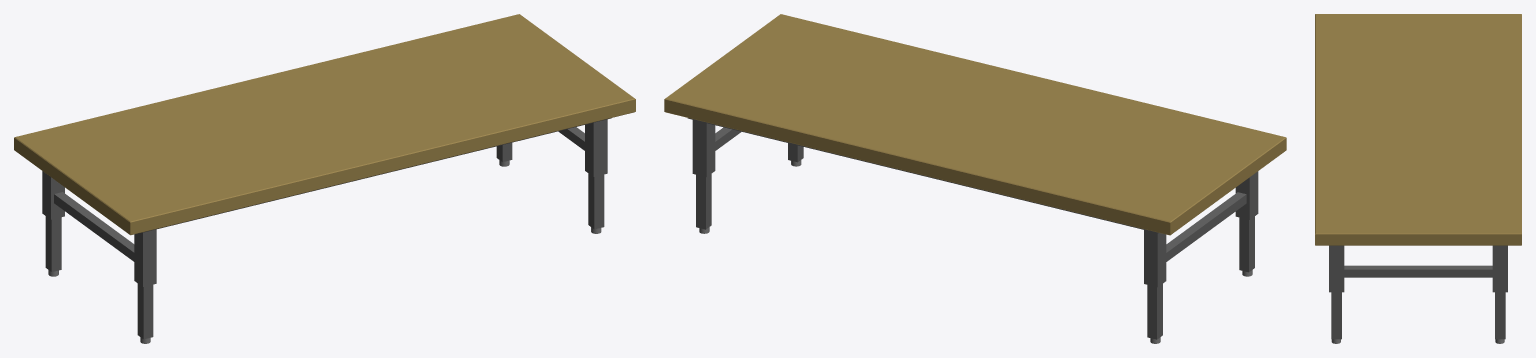
The model's file is WorkTableGeo.fbx.
3 views of the same model, side by side, from view 1: azimuth 30°, elevation 25°; view 2: azimuth 150°, elevation 25°; view 3: azimuth 270°, elevation 25° (orthographic). The views are drawn at different scales.
Parts seen in each view (by area): view 1: WorkTableGeo; view 2: WorkTableGeo; view 3: WorkTableGeo.
Part boxes in pixels (box(x1,y1,x2,y2)): WorkTableGeo: box(14, 14, 635, 343); WorkTableGeo: box(664, 14, 1286, 343); WorkTableGeo: box(1315, 14, 1521, 343).
Size of the model in its own units: 919 by 235 by 366.
